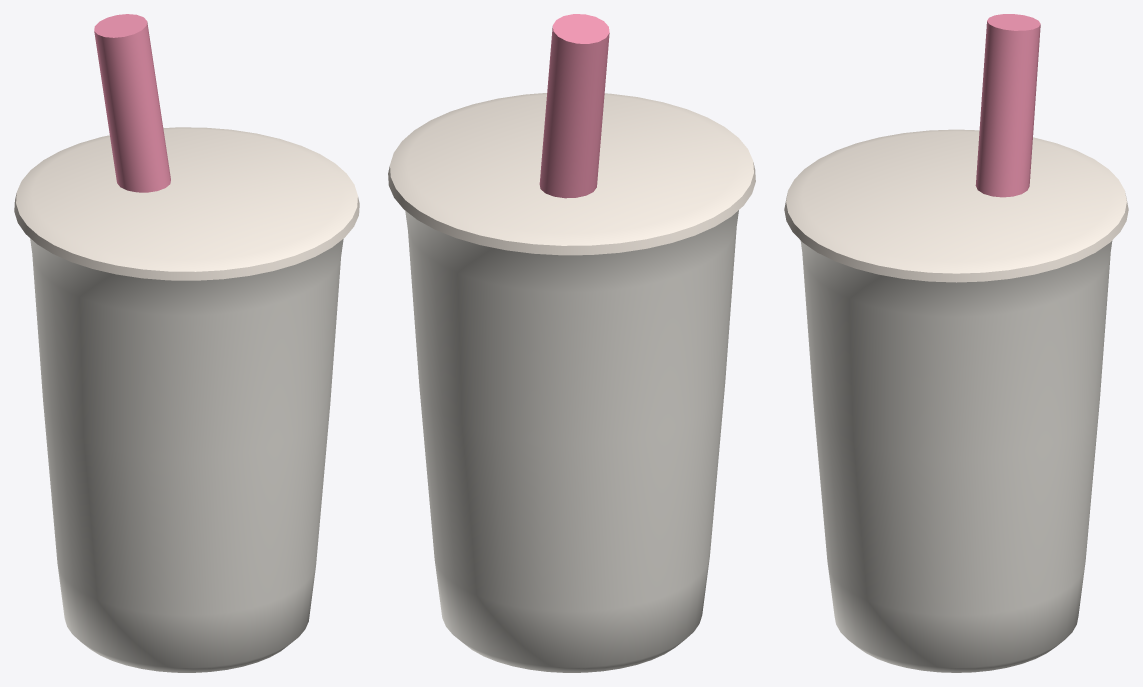
Rendered from BrownSugarMilkTea.fbx.
3 views of the same model, side by side, from view 1: azimuth 30°, elevation 25°; view 2: azimuth 150°, elevation 25°; view 3: azimuth 270°, elevation 25° (orthographic). The views are drawn at different scales.
Parts seen in each view (by area): view 1: BrownSugarMilkTea; view 2: BrownSugarMilkTea; view 3: BrownSugarMilkTea.
Part boxes in pixels (bbox=[...]): BrownSugarMilkTea: bbox=[14, 14, 359, 672]; BrownSugarMilkTea: bbox=[388, 14, 755, 672]; BrownSugarMilkTea: bbox=[784, 14, 1128, 672].
Bounding box in the file's own units: 0.96 × 1.81 × 0.96.
Materials: 5 (5 with a texture image).
